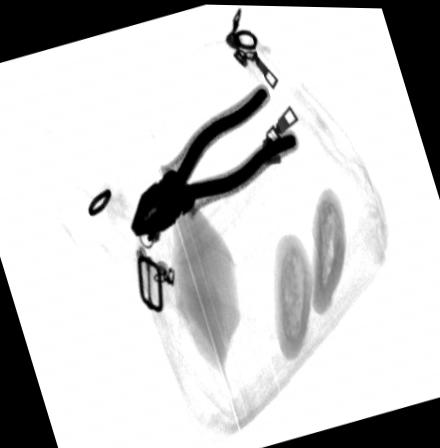Pliers: (128, 81, 300, 235)
